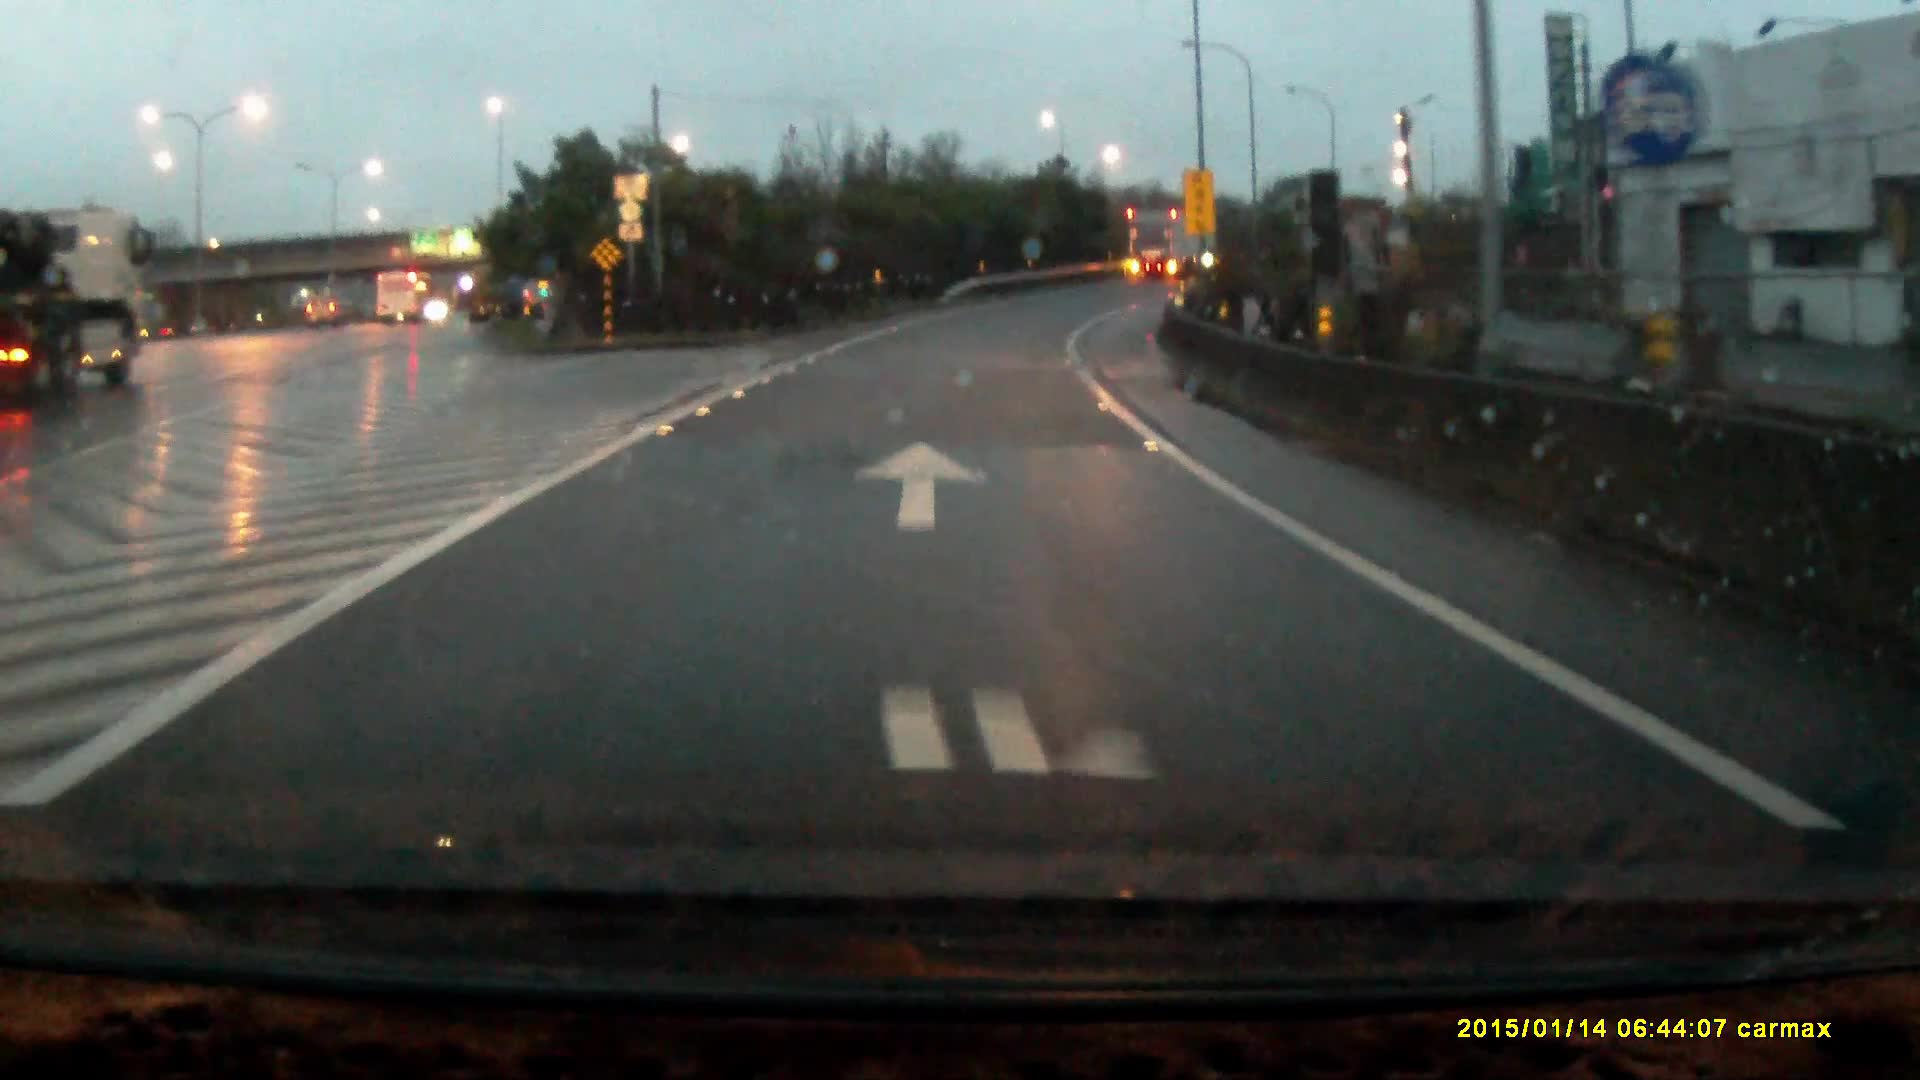vehicle: (1, 208, 154, 404), (1126, 208, 1226, 284), (376, 273, 426, 324), (309, 301, 338, 331)
